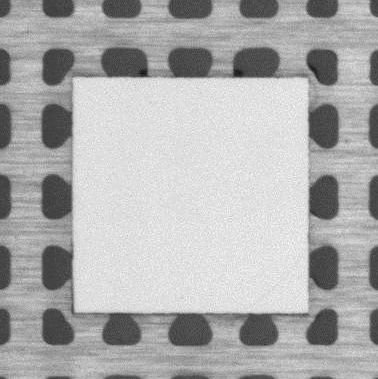DIE_CRACK: (251, 255, 303, 309)
